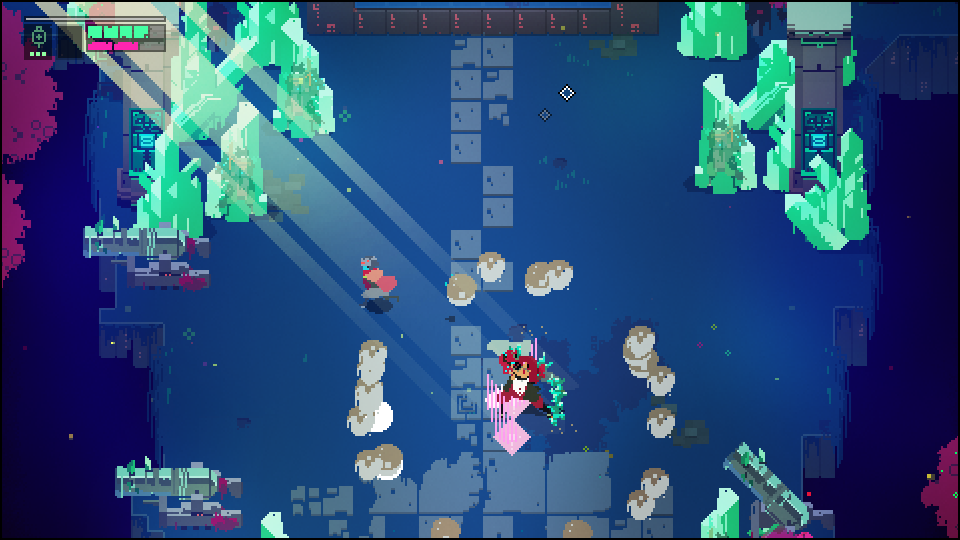hanged_crys: (484, 377, 519, 438)
hanged_man: (480, 335, 563, 429)
player: (359, 256, 395, 310)
